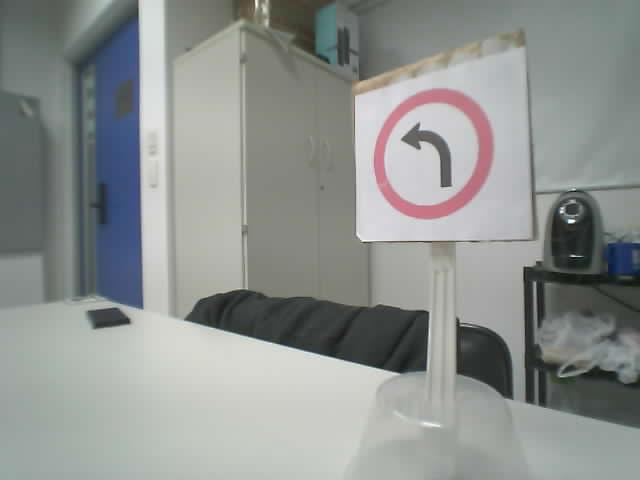R-25a_esquerda: (371, 87, 494, 221)
